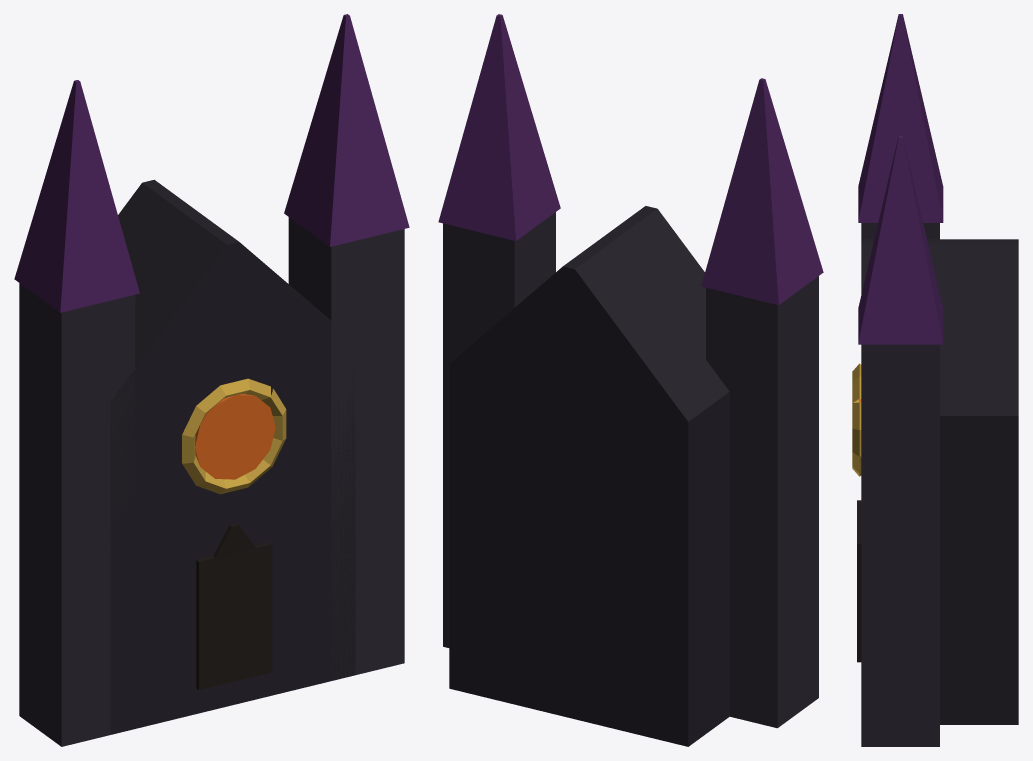
File: demon_landmark.glb
3 views of the same model, side by side, from view 1: azimuth 30°, elevation 25°; view 2: azimuth 150°, elevation 25°; view 3: azimuth 270°, elevation 25° (orthographic). The views are drawn at different scales.
Parts seen in each view (by area): view 1: demon_landmark; view 2: demon_landmark; view 3: demon_landmark.
Boxes of the visible parts, box(x1,y1,x2,y2) form: demon_landmark: box(14, 14, 409, 746); demon_landmark: box(438, 14, 823, 746); demon_landmark: box(852, 14, 1018, 746).
Size of the model in its own units: 2.85 by 5 by 1.27.
